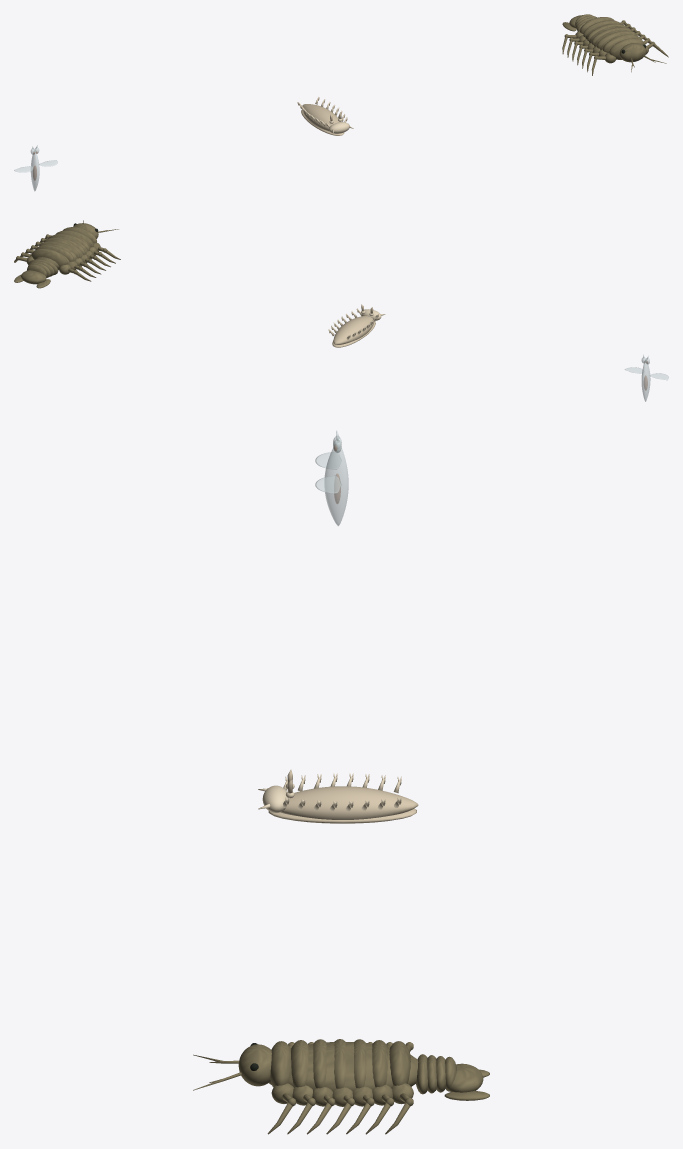
File: ice-minis.glb
3 views of the same model, one above another, from view 1: azimuth 30°, elevation 25°; view 2: azimuth 150°, elevation 25°; view 3: azimuth 270°, elevation 25° (orthographic). The views are drawn at different scales.
Parts seen in each view (by area): view 1: Glyptonotus_Antarcticus, Tritoniella_Belli, Clione_Antarctica; view 2: Glyptonotus_Antarcticus, Tritoniella_Belli, Clione_Antarctica; view 3: Glyptonotus_Antarcticus, Tritoniella_Belli, Clione_Antarctica.
Part boxes in pixels (x1,y1,x2,y2): Glyptonotus_Antarcticus: (562,14,668,75); Tritoniella_Belli: (297,96,353,135); Clione_Antarctica: (14,145,57,191); Glyptonotus_Antarcticus: (14,220,120,288); Tritoniella_Belli: (328,304,385,347); Clione_Antarctica: (625,354,668,401); Glyptonotus_Antarcticus: (193,1039,489,1134); Tritoniella_Belli: (258,770,418,823); Clione_Antarctica: (315,430,348,525).
Bounding box in the file's own units: 1.66 × 0.13 × 0.3335.
